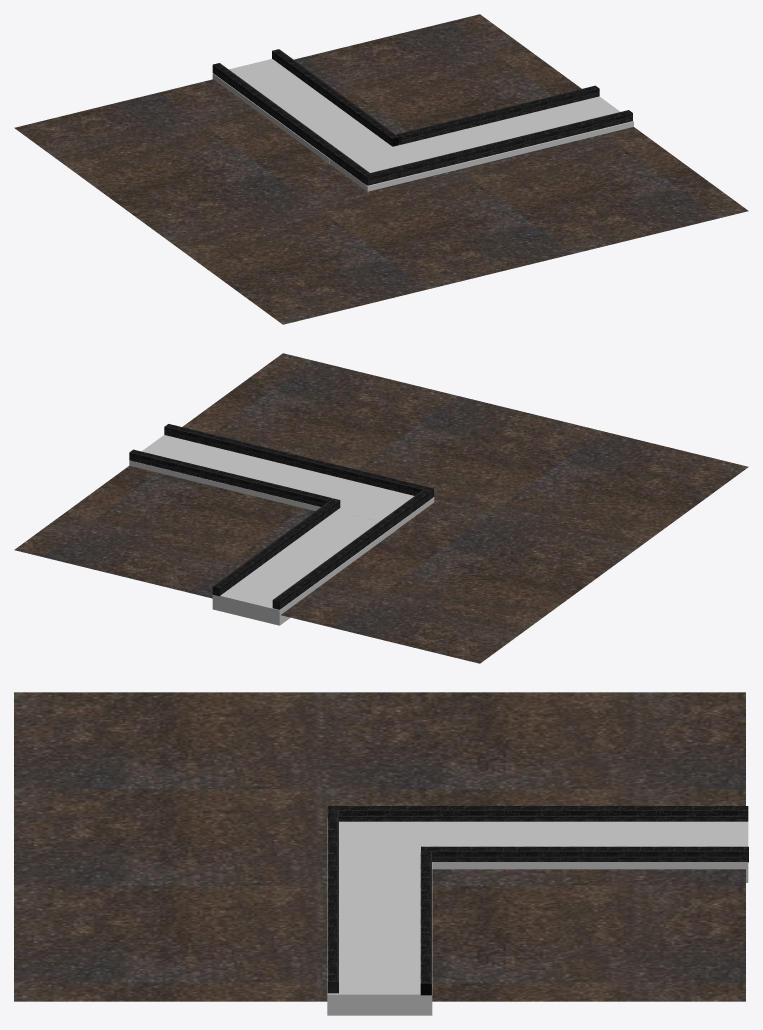
File: right.fbx
3 views of the same model, one above another, from view 1: azimuth 30°, elevation 25°; view 2: azimuth 150°, elevation 25°; view 3: azimuth 270°, elevation 25° (orthographic). The views are drawn at different scales.
Parts seen in each view (by area): view 1: Plane.047, Cube.026, Cube.027, Cube.029, Cube.028, Cube.031, Cube.030; view 2: Plane.047, Cube.026, Cube.027, Cube.029, Cube.031, Cube.028, Cube.030; view 3: Plane.047, Cube.026, Cube.027, Cube.031, Cube.030, Cube.029, Cube.028.
Boxes of the visible parts, x1,y1,x2,y2 form: Plane.047: (14, 14, 748, 324); Cube.026: (329, 96, 633, 191); Cube.027: (212, 59, 387, 163); Cube.029: (364, 110, 632, 185); Cube.028: (396, 85, 599, 144); Cube.031: (212, 63, 369, 184); Cube.030: (272, 49, 399, 146); Plane.047: (14, 353, 748, 663); Cube.026: (129, 435, 434, 529); Cube.027: (212, 511, 396, 625); Cube.029: (164, 424, 433, 496); Cube.031: (272, 488, 432, 609); Cube.028: (129, 449, 332, 506); Cube.030: (212, 498, 340, 596); Plane.047: (14, 692, 745, 1001); Cube.026: (327, 818, 432, 1015); Cube.027: (432, 821, 748, 882); Cube.031: (331, 806, 748, 821); Cube.030: (421, 846, 748, 862); Cube.029: (327, 806, 338, 993); Cube.028: (420, 852, 431, 995).
Size of the model in its own units: 6962 by 343 by 6989.
